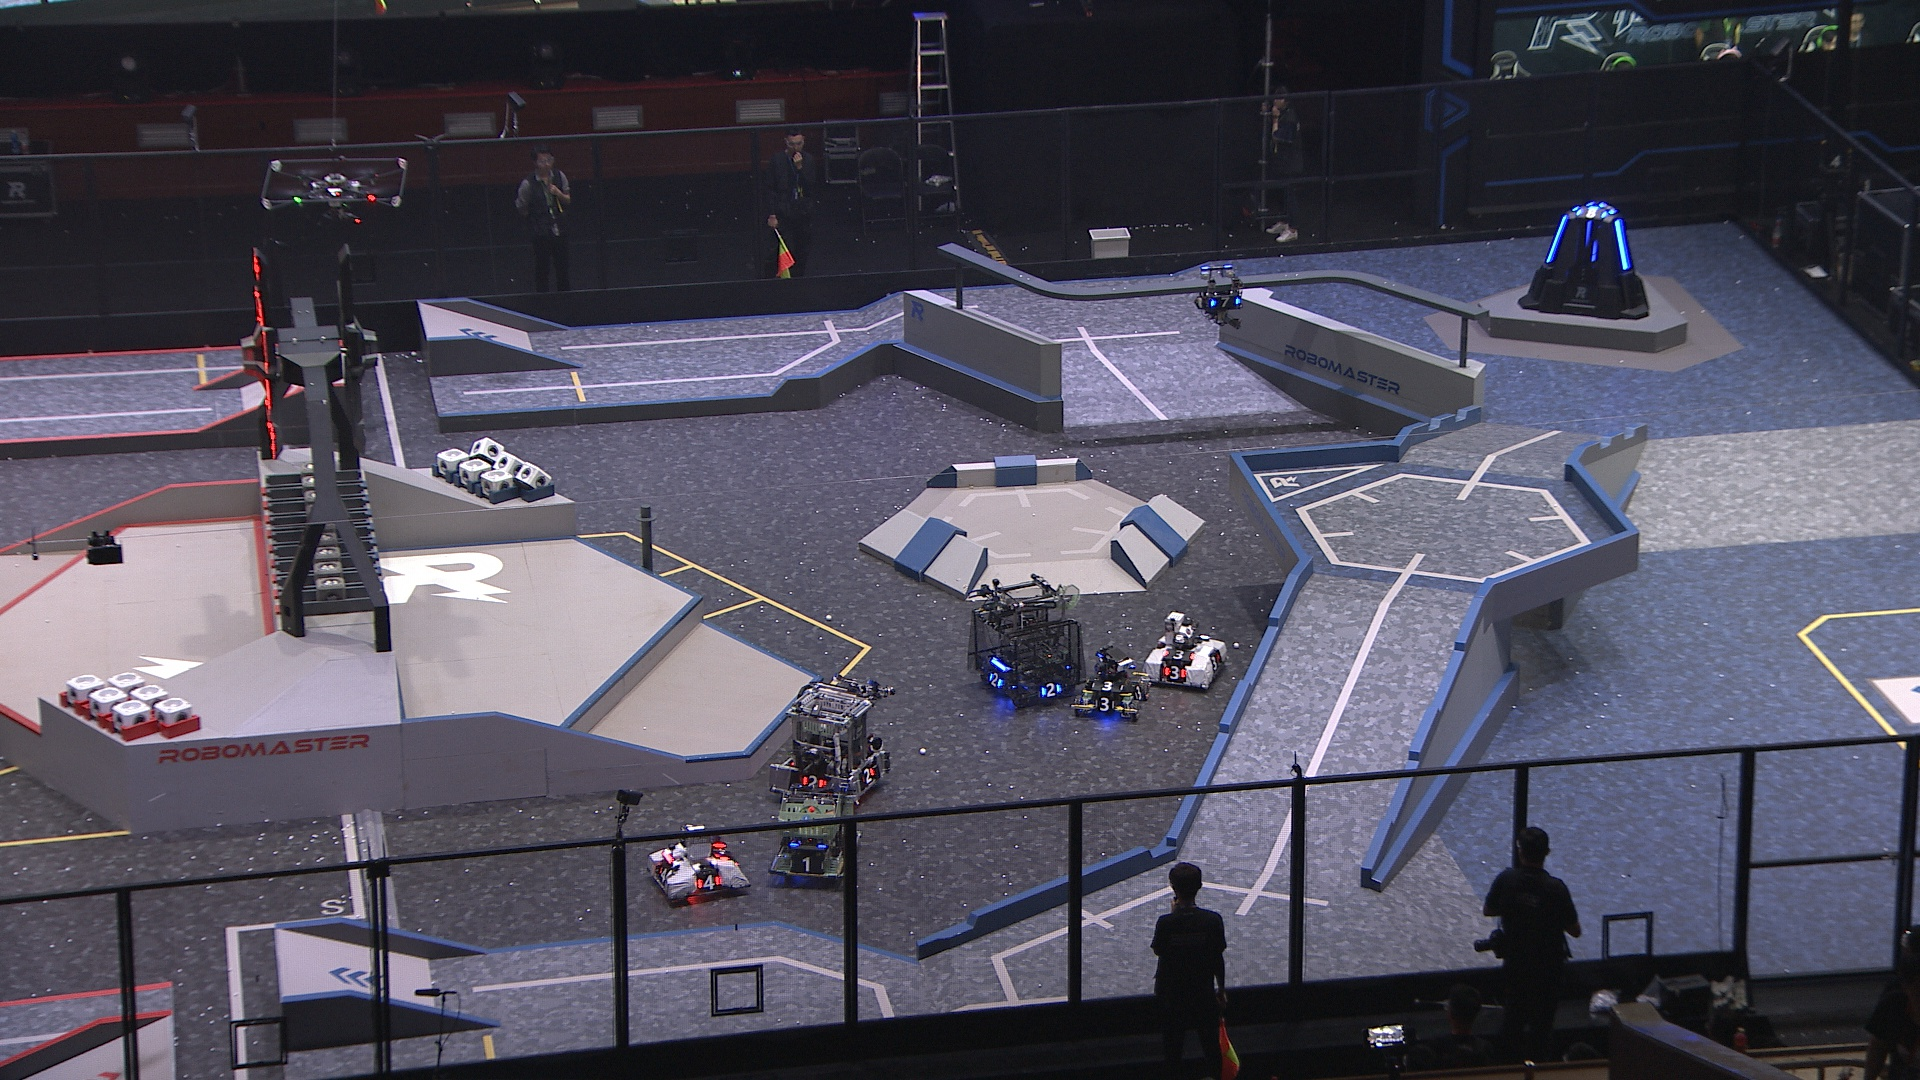armor: (1544, 214, 1567, 266), (1614, 218, 1633, 272), (789, 853, 823, 874), (694, 873, 724, 893), (1207, 295, 1242, 310), (1164, 647, 1193, 665), (1575, 204, 1607, 219), (1092, 694, 1116, 713), (1162, 665, 1187, 683), (1092, 679, 1122, 694), (858, 764, 877, 787), (798, 774, 825, 790), (1039, 680, 1062, 698), (1582, 220, 1594, 248), (986, 670, 1004, 688), (655, 865, 670, 884), (1131, 683, 1145, 703), (1209, 651, 1224, 669), (1588, 243, 1600, 262)
base: (1513, 200, 1648, 322)
car: (967, 576, 1087, 712), (764, 680, 891, 806), (764, 789, 864, 884), (645, 825, 750, 906), (1138, 609, 1230, 694), (1068, 646, 1150, 723)
watcher: (1192, 266, 1247, 330)
